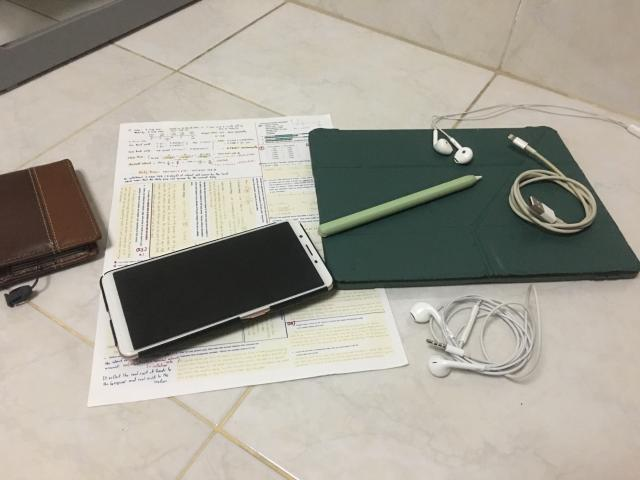Mobile phone: (100, 220, 332, 359)
Wallet: (0, 160, 101, 288)
paper: (88, 116, 408, 406)
wire: (431, 104, 640, 165), (411, 284, 541, 379), (509, 134, 596, 234)
